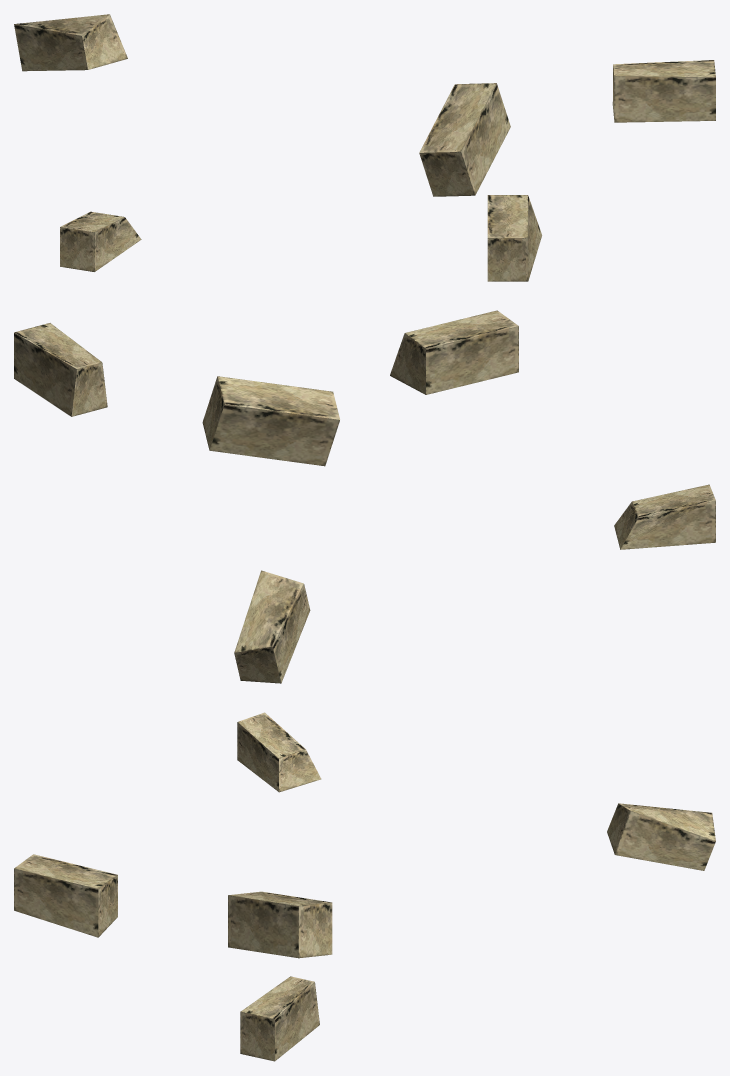
File: M12_Rubble03.glb
The picture shows the model from 3 angles, top to bottom: view 1: azimuth 30°, elevation 25°; view 2: azimuth 150°, elevation 25°; view 3: azimuth 270°, elevation 25°; orthographic projection. The views are drawn at different scales.
Parts seen in each view (by area): view 1: M12_RUBBLE03; view 2: M12_RUBBLE03; view 3: M12_RUBBLE03.
Part boxes in pixels (x1,y1,x2,y2): M12_RUBBLE03: (14, 14, 715, 281); M12_RUBBLE03: (14, 310, 715, 683); M12_RUBBLE03: (14, 712, 715, 1061).
Bounding box in the file's own units: 2.76 × 0.317 × 2.64.
1 material, 1 textured.
